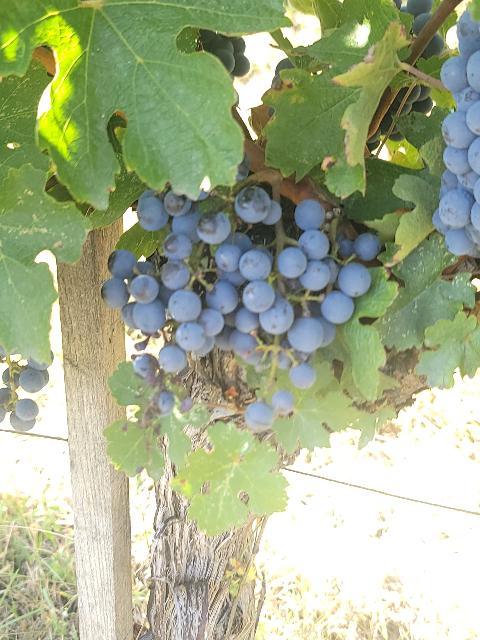grapes: (101, 185, 381, 431), (175, 424, 286, 535), (432, 11, 480, 259), (264, 178, 265, 179)
